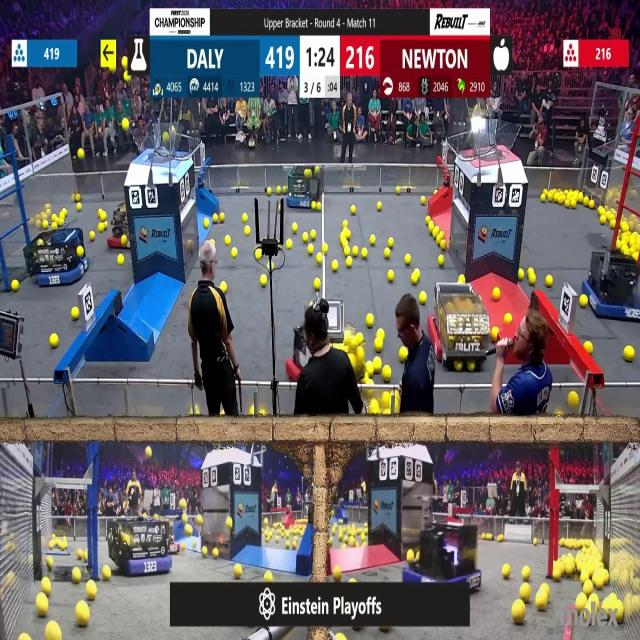ball_airborne: (121, 118, 128, 130), (146, 447, 152, 459), (164, 132, 170, 142), (77, 148, 83, 158), (122, 72, 128, 82)
ball_ground: (514, 601, 526, 624), (76, 605, 88, 628), (37, 595, 48, 616), (49, 625, 63, 640), (87, 582, 98, 601), (521, 585, 531, 603), (536, 593, 546, 610), (575, 594, 585, 611), (625, 346, 635, 362), (368, 402, 378, 418), (41, 579, 50, 596), (382, 365, 392, 380), (568, 392, 578, 407), (584, 582, 594, 595), (564, 565, 574, 578), (617, 606, 625, 622), (398, 348, 407, 362), (49, 335, 58, 349), (102, 566, 111, 580), (382, 392, 391, 406), (553, 568, 562, 581), (235, 564, 243, 578), (522, 566, 530, 580), (501, 564, 509, 578), (73, 568, 81, 582), (528, 272, 536, 286), (334, 566, 342, 580), (365, 362, 373, 376), (344, 332, 352, 346), (374, 357, 382, 370), (266, 570, 274, 582), (375, 340, 383, 352), (356, 348, 364, 360), (365, 314, 372, 327), (579, 294, 586, 307), (408, 551, 415, 564), (544, 276, 552, 287), (586, 342, 594, 353), (412, 274, 420, 285), (72, 308, 79, 320), (420, 292, 427, 304), (493, 288, 500, 300), (225, 518, 232, 530), (585, 199, 593, 209), (314, 279, 321, 290), (11, 281, 18, 292), (254, 249, 261, 260), (504, 313, 511, 324), (388, 271, 394, 283), (492, 327, 498, 339), (120, 236, 126, 248), (46, 557, 52, 569), (121, 58, 127, 70), (76, 247, 84, 256), (259, 276, 266, 286), (403, 254, 410, 264), (316, 253, 323, 263), (223, 236, 230, 246), (185, 525, 192, 535), (378, 328, 385, 338), (99, 210, 106, 220), (356, 335, 363, 345), (347, 256, 353, 267), (518, 270, 524, 281), (384, 248, 390, 259), (220, 282, 226, 293), (198, 513, 204, 524), (98, 222, 105, 231), (76, 551, 83, 560), (349, 537, 356, 546), (361, 248, 367, 258), (309, 244, 315, 254), (331, 262, 337, 272), (440, 255, 446, 265), (352, 246, 358, 256), (117, 254, 123, 264), (291, 222, 297, 232), (286, 240, 292, 250), (219, 212, 225, 222), (368, 236, 374, 246), (244, 225, 250, 235), (428, 222, 434, 232), (82, 552, 88, 562), (180, 498, 186, 508), (565, 200, 571, 210), (203, 545, 208, 556), (459, 275, 465, 284), (388, 239, 394, 248), (312, 202, 318, 211), (345, 247, 351, 256), (322, 244, 328, 253), (22, 634, 31, 640), (213, 215, 219, 224), (345, 231, 351, 240), (609, 219, 615, 228), (570, 200, 576, 209), (337, 634, 346, 640), (233, 248, 238, 258), (91, 232, 96, 242), (205, 218, 210, 228), (213, 550, 218, 560), (304, 233, 309, 243), (442, 240, 447, 250), (617, 240, 622, 250), (344, 534, 349, 544), (540, 193, 546, 201), (600, 216, 606, 224), (268, 187, 274, 195), (546, 192, 552, 200), (180, 540, 186, 548), (341, 541, 347, 549), (243, 213, 248, 222), (421, 198, 426, 207), (351, 206, 356, 215), (276, 186, 282, 193), (284, 541, 290, 548), (378, 202, 382, 212), (311, 232, 316, 240), (425, 215, 430, 223), (76, 204, 81, 212), (249, 409, 254, 417), (361, 534, 366, 542), (440, 232, 445, 240), (350, 576, 356, 582), (498, 535, 503, 542), (194, 411, 199, 418), (76, 192, 80, 200), (344, 219, 348, 227), (396, 186, 400, 194), (186, 514, 190, 522), (532, 538, 537, 544), (220, 412, 224, 418), (276, 536, 280, 542)
goal: (464, 121, 521, 160), (127, 130, 187, 160)
robot_blue: (409, 520, 482, 596), (108, 519, 174, 578), (585, 253, 640, 322), (28, 224, 89, 286), (287, 165, 325, 210)
robot_red: (432, 285, 492, 372), (106, 200, 130, 249)
